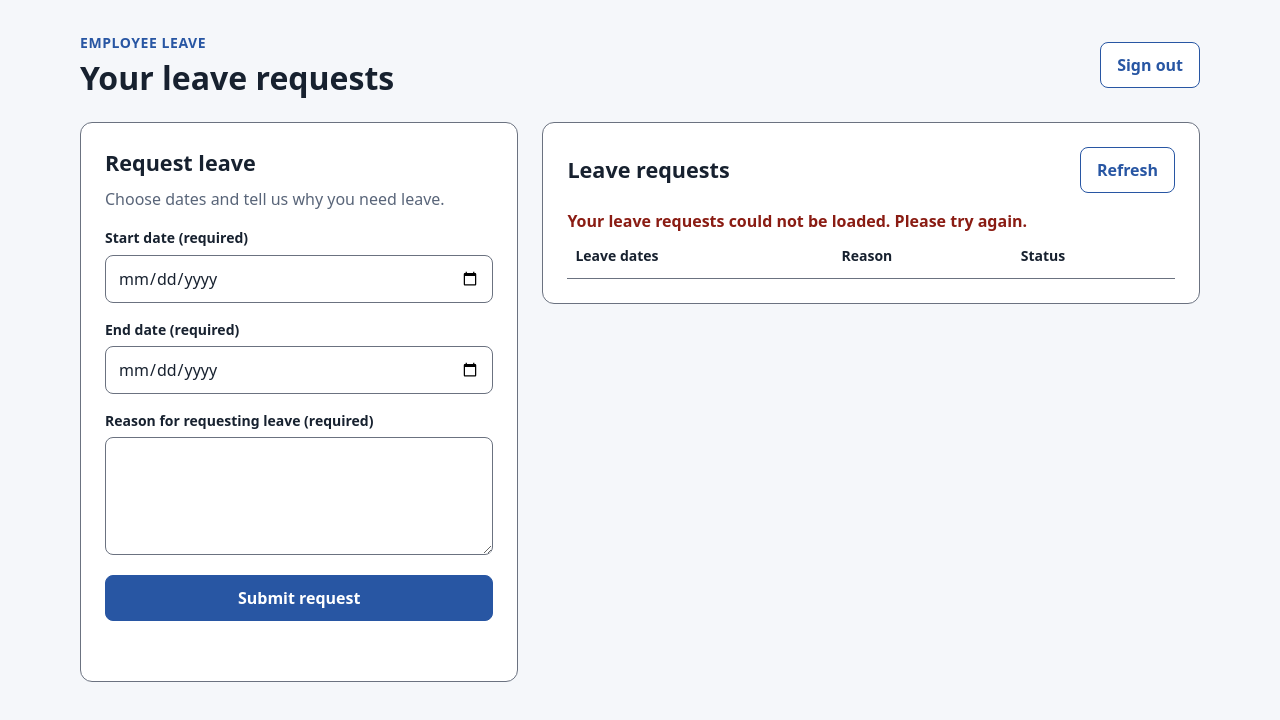
it: EmployeeDashboard submission feedback › recovers from a failed list load when the user refreshes
Expected: the message "Your leave requests could not be loaded. Please try again." is shown, [567,210,1027,232]
Click the button "Refresh" at (1127, 170), box [1080,147,1175,193]
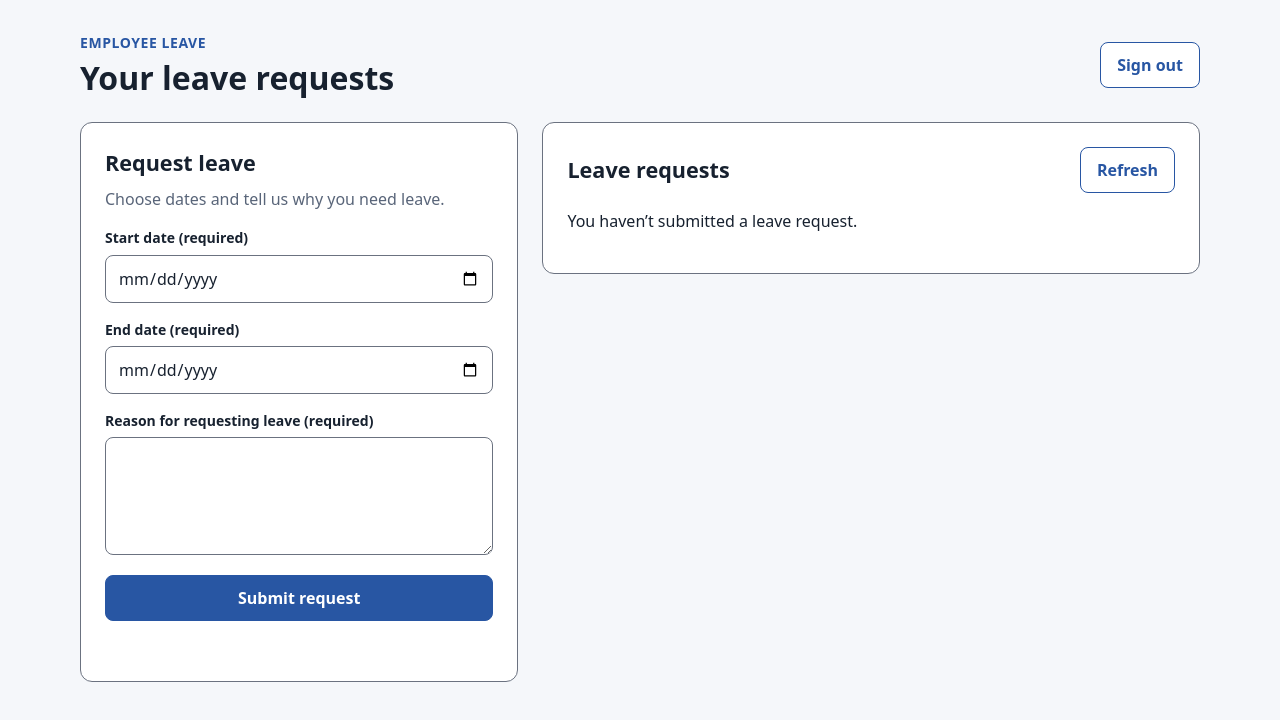
Now the text "You haven’t submitted a leave request." is shown, box [567,210,857,232]
Now the message "Your leave requests could not be loaded. Please try again." is gone
